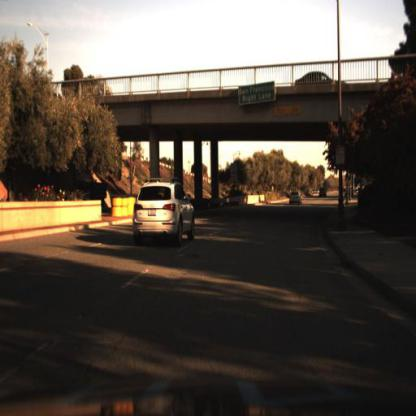car: (122, 167, 204, 252), (295, 69, 345, 93), (288, 187, 305, 208), (316, 184, 330, 199)
